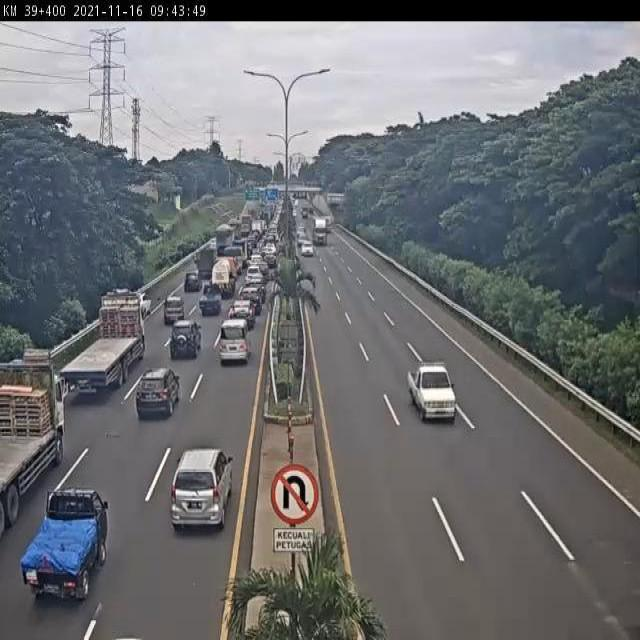car: (21, 488, 108, 601), (171, 451, 233, 533), (405, 362, 457, 426), (136, 368, 181, 420), (218, 320, 253, 371), (170, 320, 201, 360), (200, 283, 224, 316), (230, 300, 254, 333), (164, 297, 188, 324), (240, 287, 262, 313), (248, 277, 268, 299), (185, 272, 202, 293), (246, 265, 264, 284), (248, 254, 264, 266), (302, 242, 313, 255)
small truck: (195, 250, 216, 278), (225, 246, 244, 274)
truck-l-: (0, 365, 65, 535), (50, 296, 142, 397), (312, 216, 328, 245)
truck-m-: (212, 258, 235, 298), (214, 224, 234, 255)
